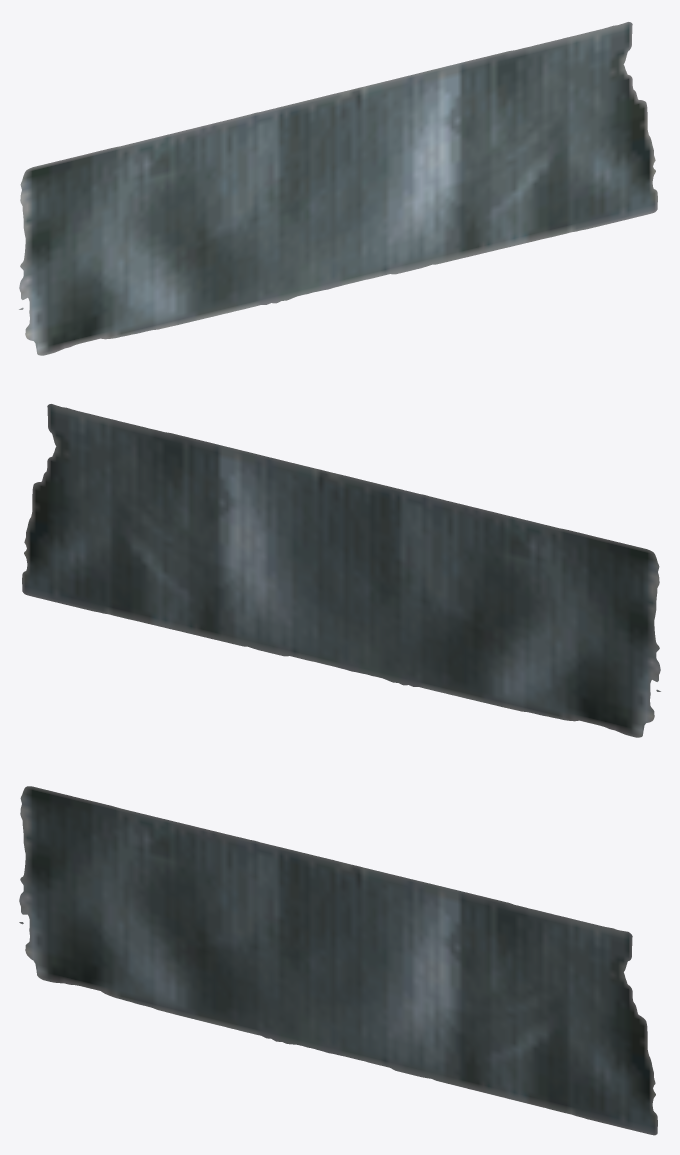
File: SM_Sign_Tape_03.glb
3 views of the same model, one above another, from view 1: azimuth 30°, elevation 25°; view 2: azimuth 150°, elevation 25°; view 3: azimuth 330°, elevation 25° (orthographic).
Parts seen in each view (by area): view 1: SM_Sign_Tape_03; view 2: SM_Sign_Tape_03; view 3: SM_Sign_Tape_03.
Part boxes in pixels (<box>): SM_Sign_Tape_03: <box>19,22,657,355</box>; SM_Sign_Tape_03: <box>22,404,660,737</box>; SM_Sign_Tape_03: <box>19,786,657,1135</box>.
Bounding box in the file's own units: 0.2805 × 0.0842 × 1.4e-08.
Materials: 1 (1 with a texture image).
